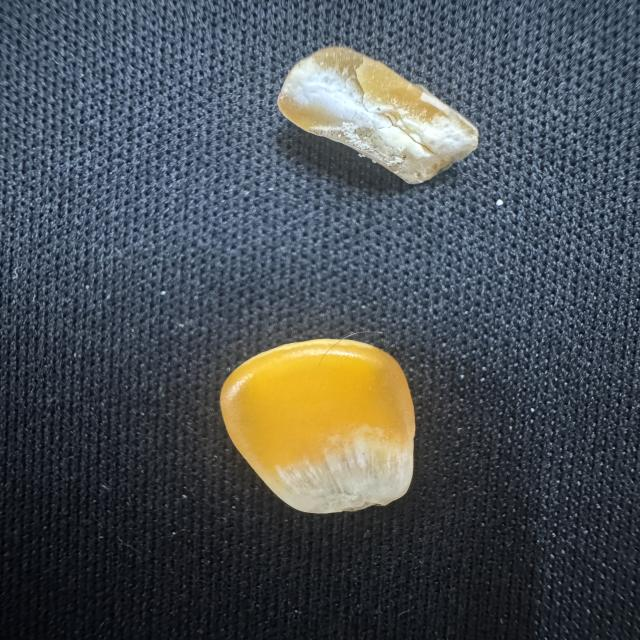Bad-Seed: (270, 41, 484, 188)
Good-Seed: (215, 333, 423, 517)
